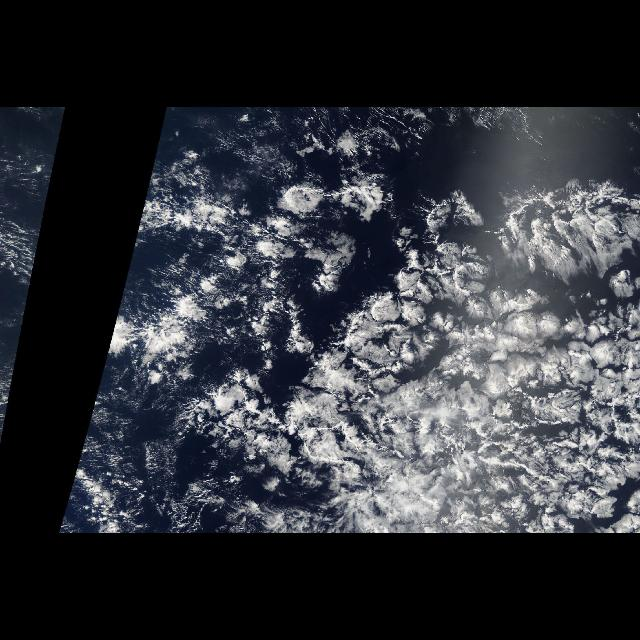Fish: (150, 283, 640, 532)
Flower: (167, 183, 639, 533)
